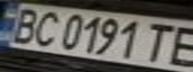0: (54, 11, 84, 52)
1: (115, 17, 148, 61), (75, 14, 103, 54)
9: (96, 16, 121, 56)
B: (3, 6, 45, 44)
C: (24, 8, 66, 47)
E: (157, 21, 193, 69)
T: (136, 20, 184, 64)
